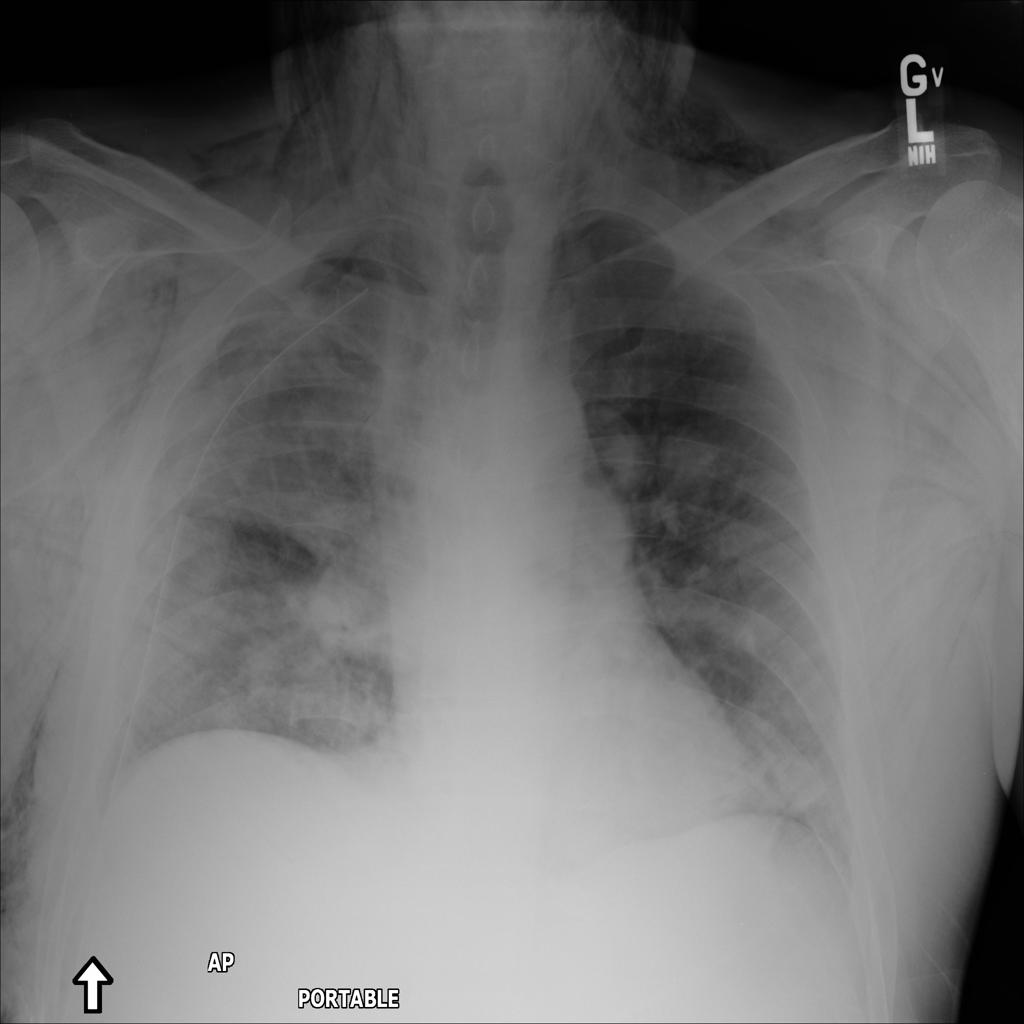nodule: (749, 731, 843, 835), (653, 416, 731, 500), (722, 591, 788, 671), (588, 421, 657, 497)
